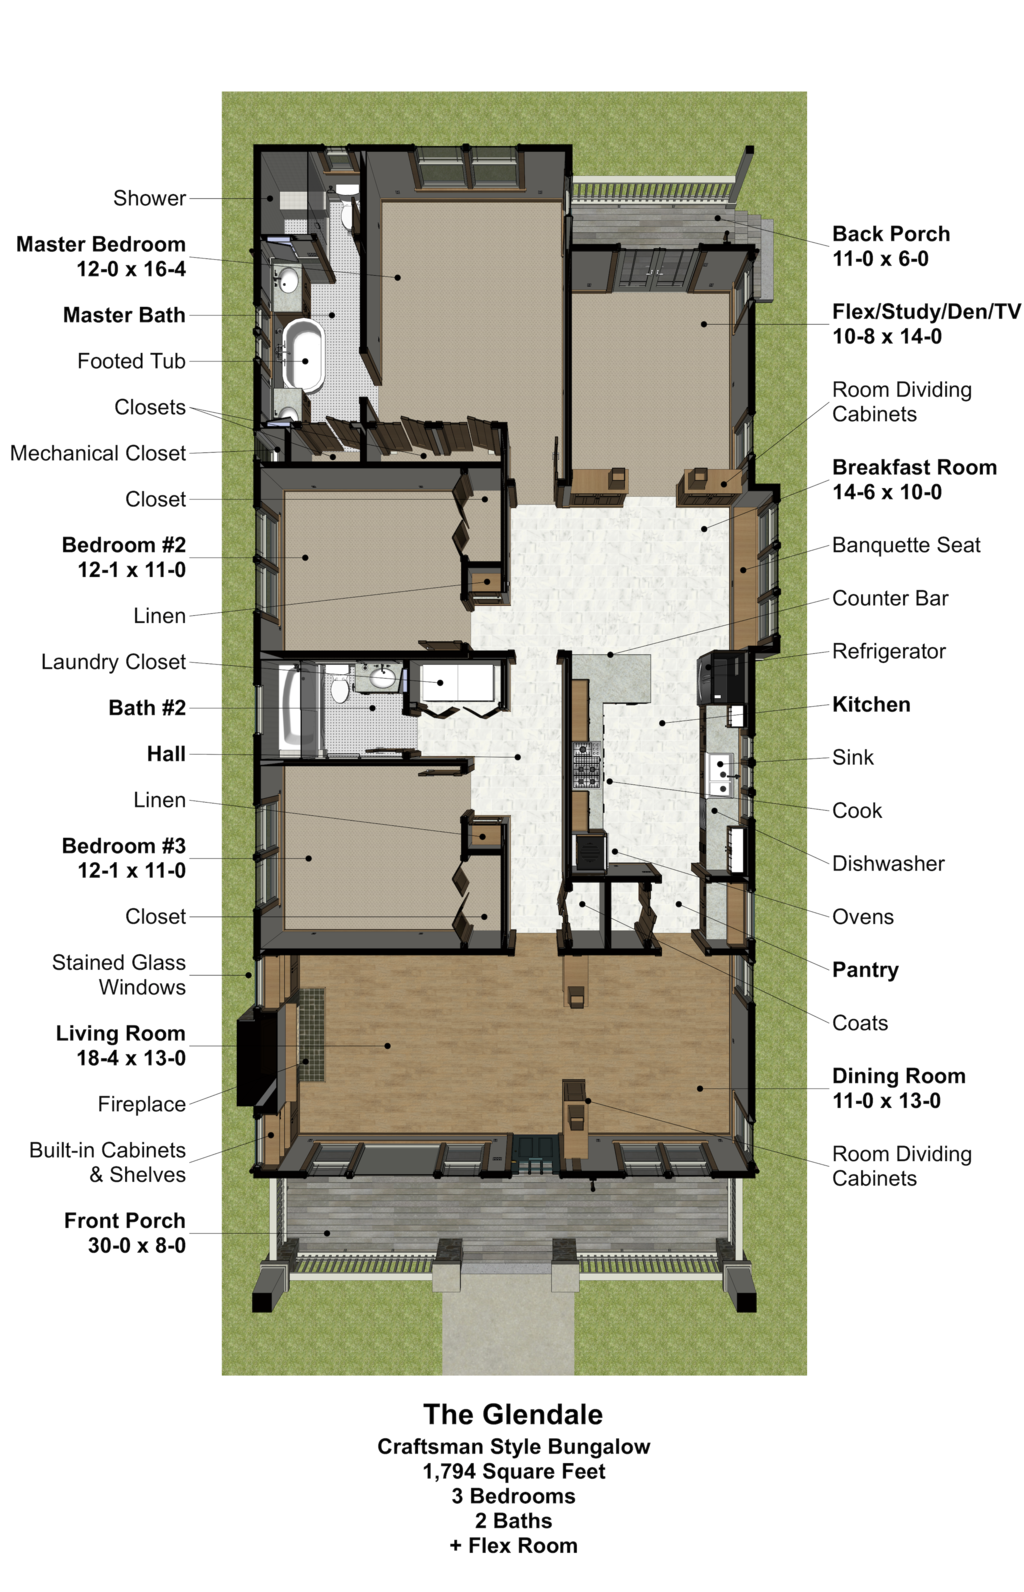door: (403, 126, 522, 210), (607, 239, 693, 323)
large_sink: (324, 664, 354, 729)
small_sink: (354, 659, 403, 703), (254, 247, 295, 298)
tub: (276, 303, 329, 393)
twin_sink: (700, 741, 742, 817)
